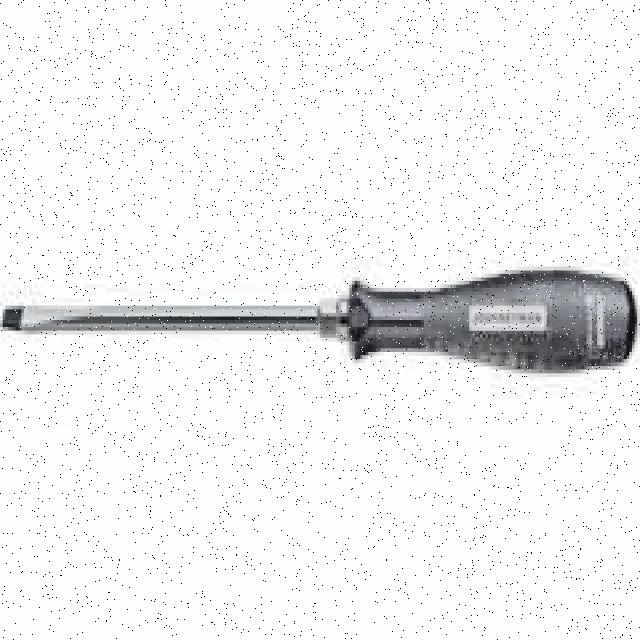screwdriver: (0, 265, 638, 377)
